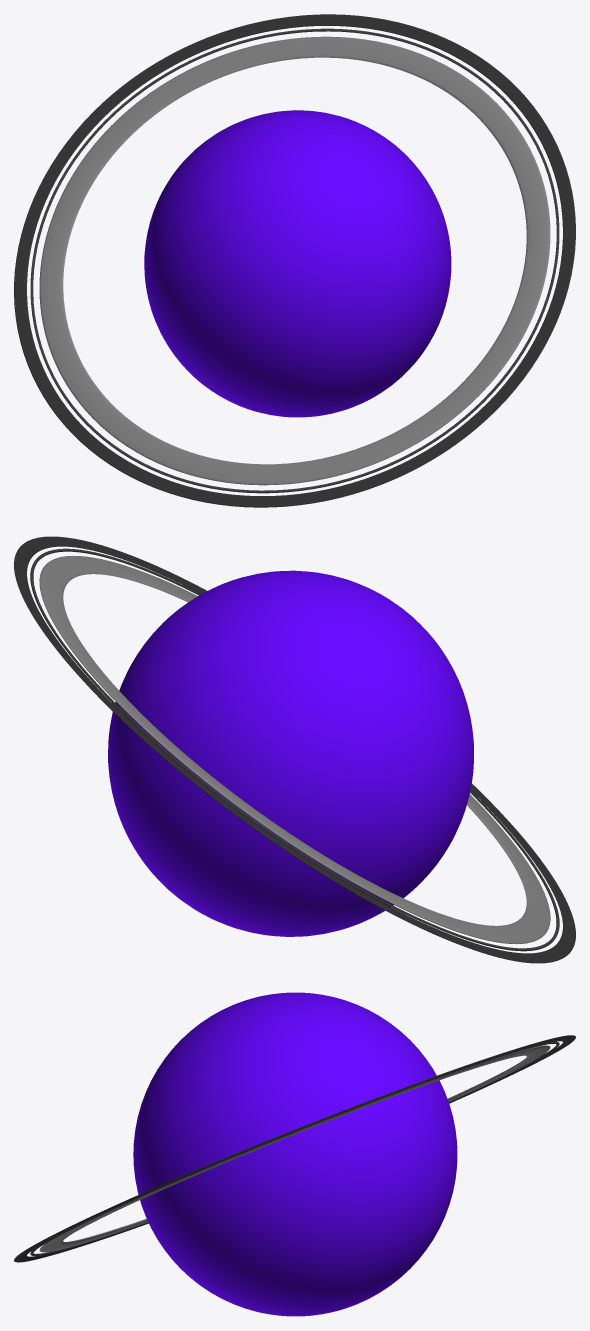
File: planet-transformed.glb
3 renders of one model, top to bottom at view 1: azimuth 30°, elevation 25°; view 2: azimuth 150°, elevation 25°; view 3: azimuth 270°, elevation 25°, orthographic. The views are drawn at different scales.
Visible parts, largest first — view 1: _switchable, Ring 1, Ring 3, Ring 2; view 2: _switchable, Ring 1, Ring 3, Ring 2; view 3: _switchable, Ring 1, Ring 3, Ring 2.
Part boxes in pixels (x1,y1,x2,y2): _switchable: [144, 110, 451, 417]; Ring 1: [39, 36, 550, 485]; Ring 3: [14, 14, 575, 507]; Ring 2: [30, 28, 559, 493]; _switchable: [108, 570, 473, 936]; Ring 1: [39, 556, 550, 943]; Ring 3: [14, 536, 575, 963]; Ring 2: [30, 548, 559, 951]; _switchable: [133, 992, 457, 1316]; Ring 1: [39, 1045, 550, 1252]; Ring 3: [14, 1035, 575, 1262]; Ring 2: [30, 1041, 559, 1255].
Size of the model in its own units: 0.2865 by 0.1849 by 0.297.
